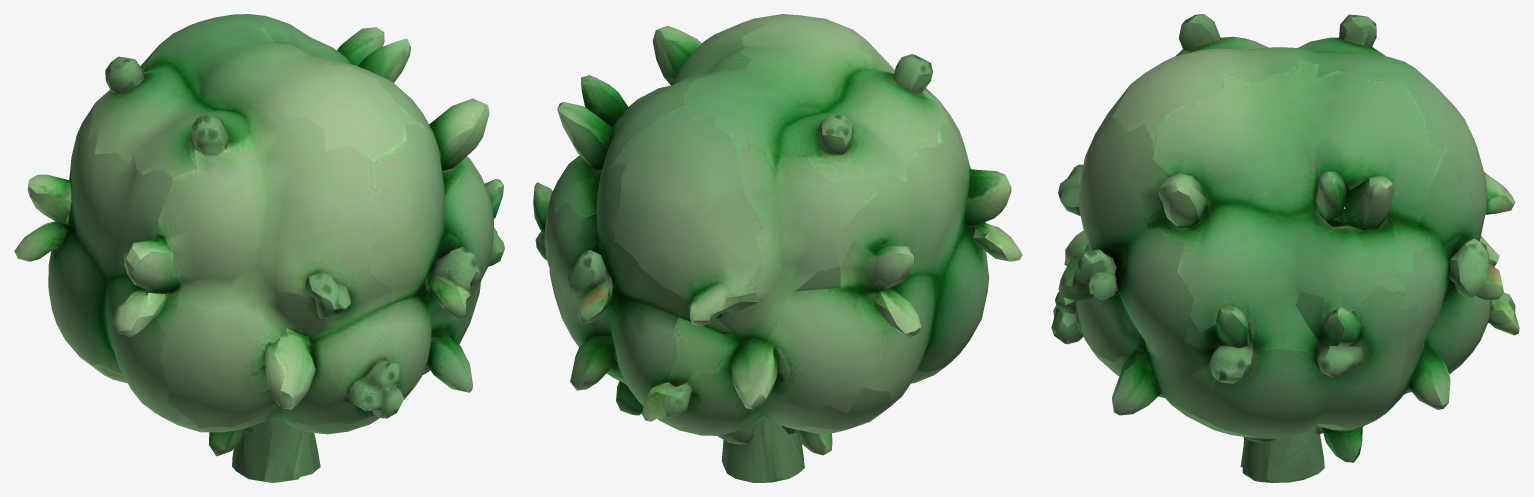
The model's file is bush_bare.glb.
3 renders of one model, left to right at view 1: azimuth 30°, elevation 25°; view 2: azimuth 150°, elevation 25°; view 3: azimuth 270°, elevation 25°, orthographic. The views are drawn at different scales.
Visible parts, largest first — view 1: bush_s15; view 2: bush_s15; view 3: bush_s15.
Part boxes in pixels (x1,y1,x2,y2): bush_s15: (14, 14, 504, 482); bush_s15: (533, 14, 1022, 482); bush_s15: (1051, 14, 1519, 482).
Size of the model in its own units: 0.988 by 0.9625 by 1.
1 material, 1 textured.
